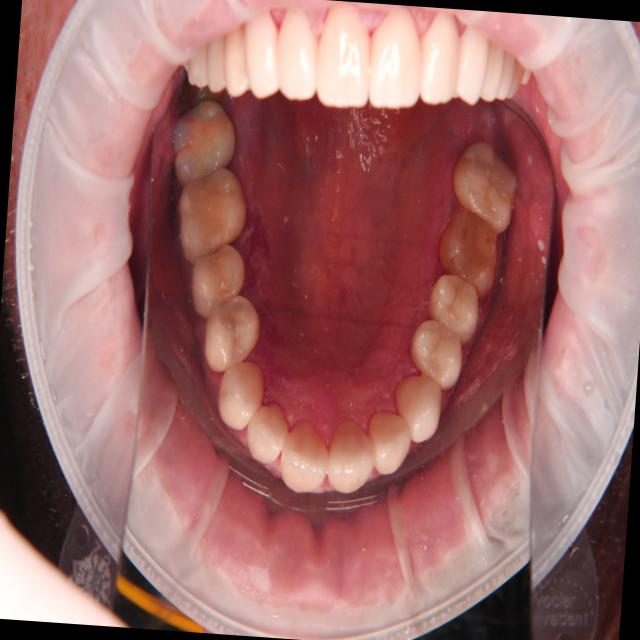tooth: (172, 156, 254, 264), (446, 133, 524, 236), (429, 197, 504, 302), (162, 88, 241, 185), (195, 284, 266, 380), (186, 231, 251, 327), (419, 262, 486, 351), (321, 408, 383, 502), (382, 363, 448, 450), (401, 312, 469, 394), (211, 351, 271, 436), (277, 411, 332, 501), (364, 396, 416, 481), (241, 392, 293, 472)
